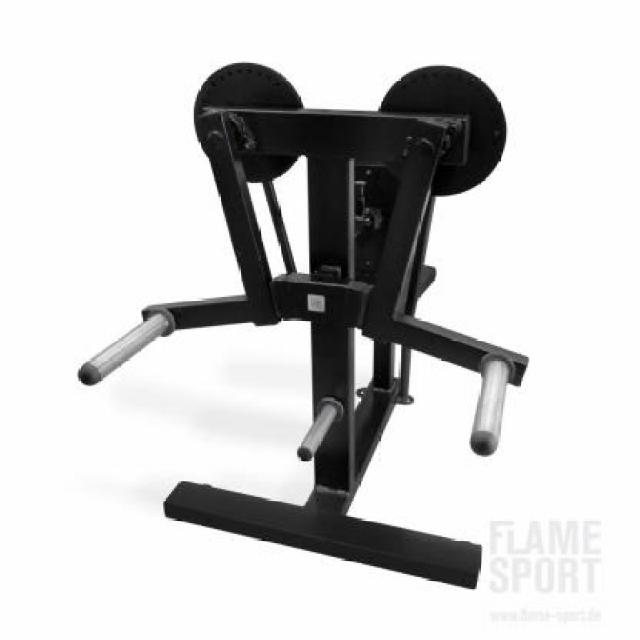lateral raises machine: (83, 60, 529, 515)
